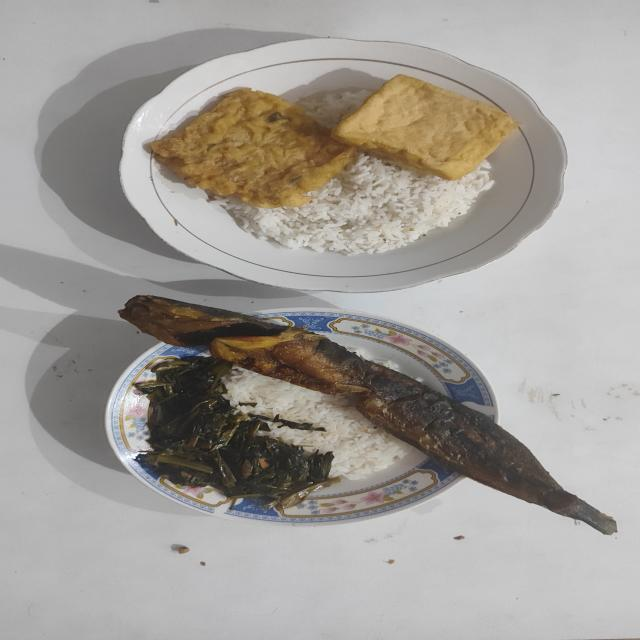nasi_putih: (211, 152, 494, 255), (222, 369, 408, 480), (301, 90, 368, 119)
tahu_goreng: (332, 74, 518, 180)
tumis_kangkung: (134, 356, 340, 509)
